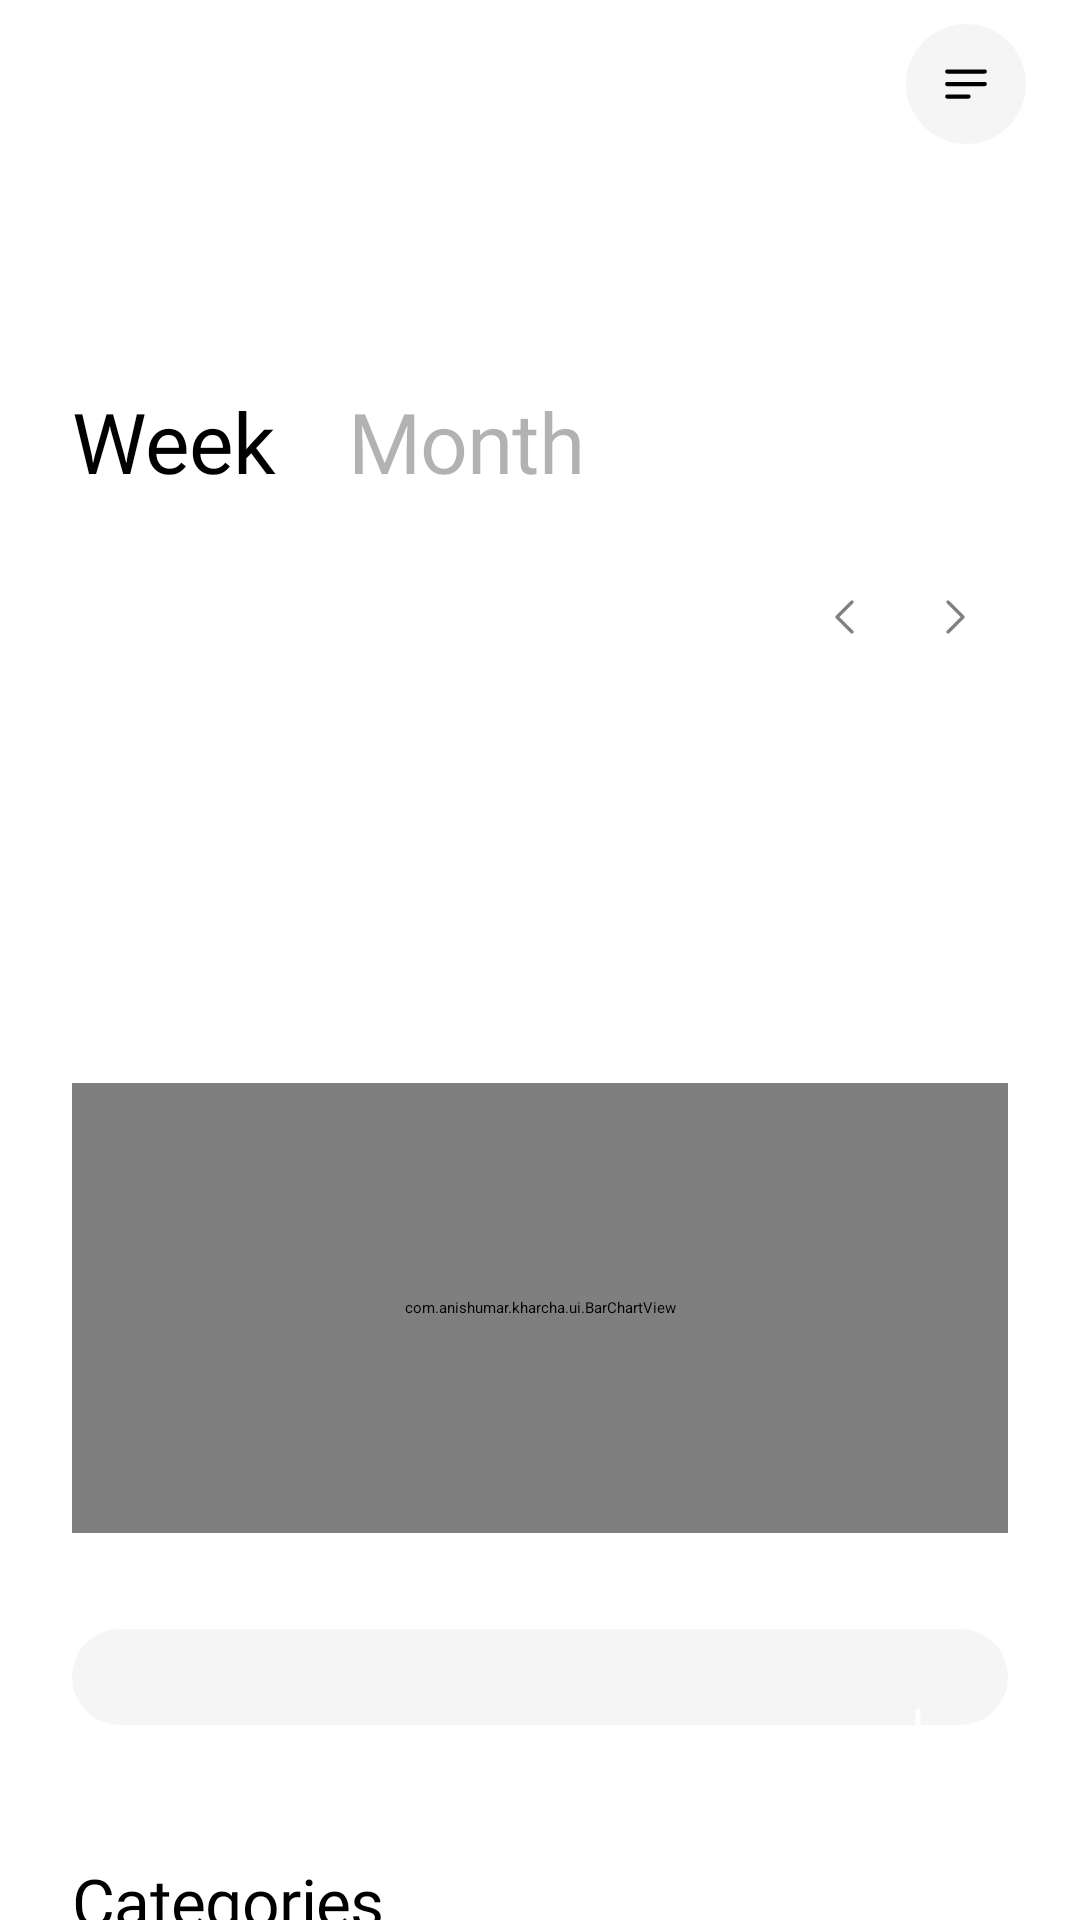

Named icons in this screenshot (1080w x 1920h) and their bounding boxes, (x1, y1, x2, y2):
Next: (946, 600, 965, 634)
Previous: (835, 600, 854, 634)
